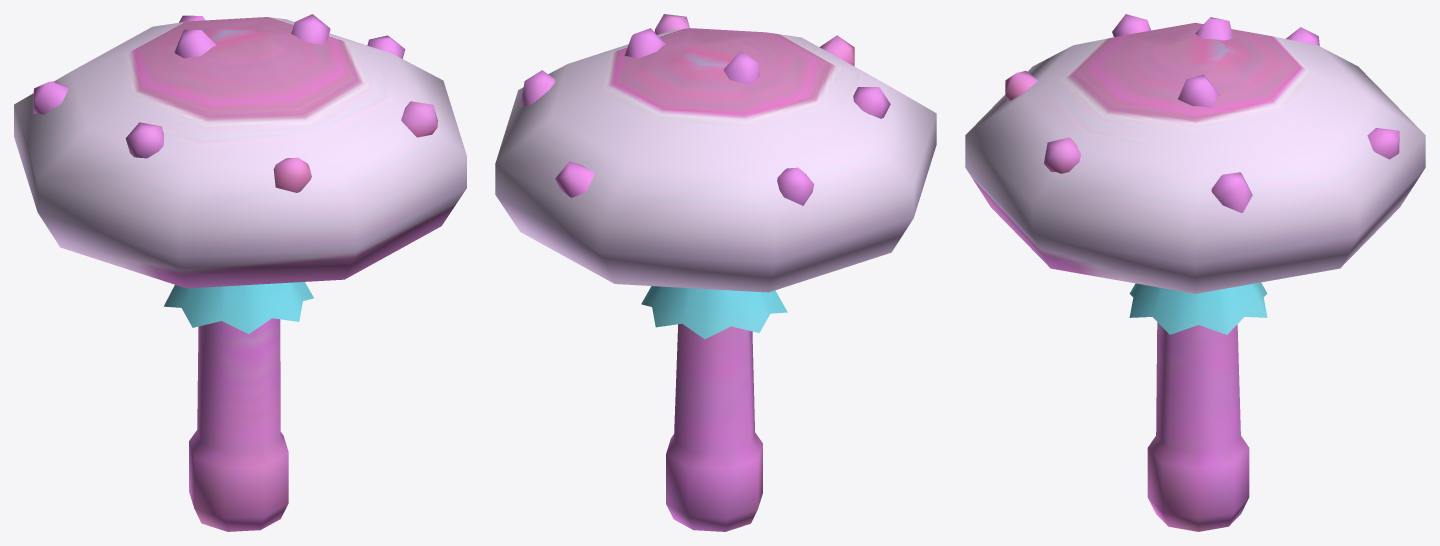
File: grande_peque12.fbx
3 views of the same model, side by side, from view 1: azimuth 30°, elevation 25°; view 2: azimuth 150°, elevation 25°; view 3: azimuth 270°, elevation 25° (orthographic). The views are drawn at different scales.
Visible parts, largest first — view 1: SetaXS12; view 2: SetaXS12; view 3: SetaXS12.
Boxes of the visible parts, x1,y1,x2,y2 form: SetaXS12: [14, 14, 466, 531]; SetaXS12: [495, 14, 936, 531]; SetaXS12: [965, 14, 1425, 531].
Bounding box in the file's own units: 619 × 722 × 619.
1 material, 1 textured.
